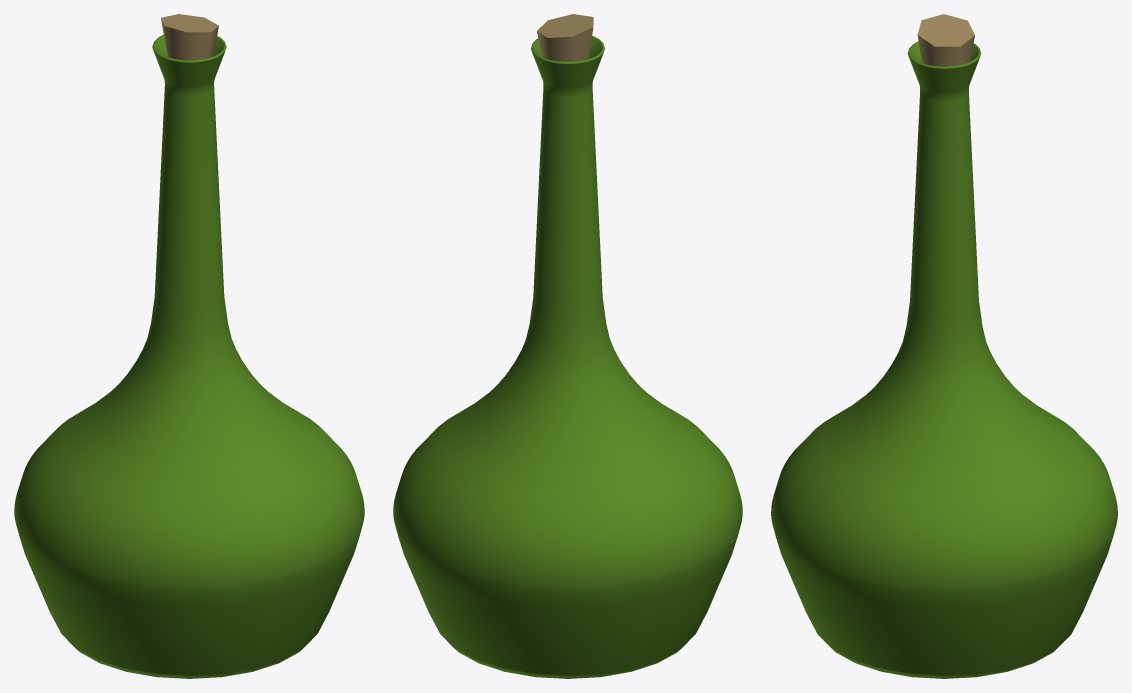
File: posion.fbx.fbx
The picture shows the model from 3 angles, left to right: view 1: azimuth 30°, elevation 25°; view 2: azimuth 150°, elevation 25°; view 3: azimuth 270°, elevation 25°; orthographic projection.
Parts seen in each view (by area): view 1: Cilindro_1; view 2: Cilindro_1; view 3: Cilindro_1.
Part boxes in pixels (box(x1,y1,x2,y2)): Cilindro_1: box(14, 14, 364, 678); Cilindro_1: box(393, 14, 742, 678); Cilindro_1: box(771, 14, 1117, 678).
Bounding box in the file's own units: 392 × 750 × 392.
